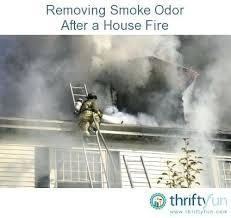smoke: (0, 35, 229, 137)
